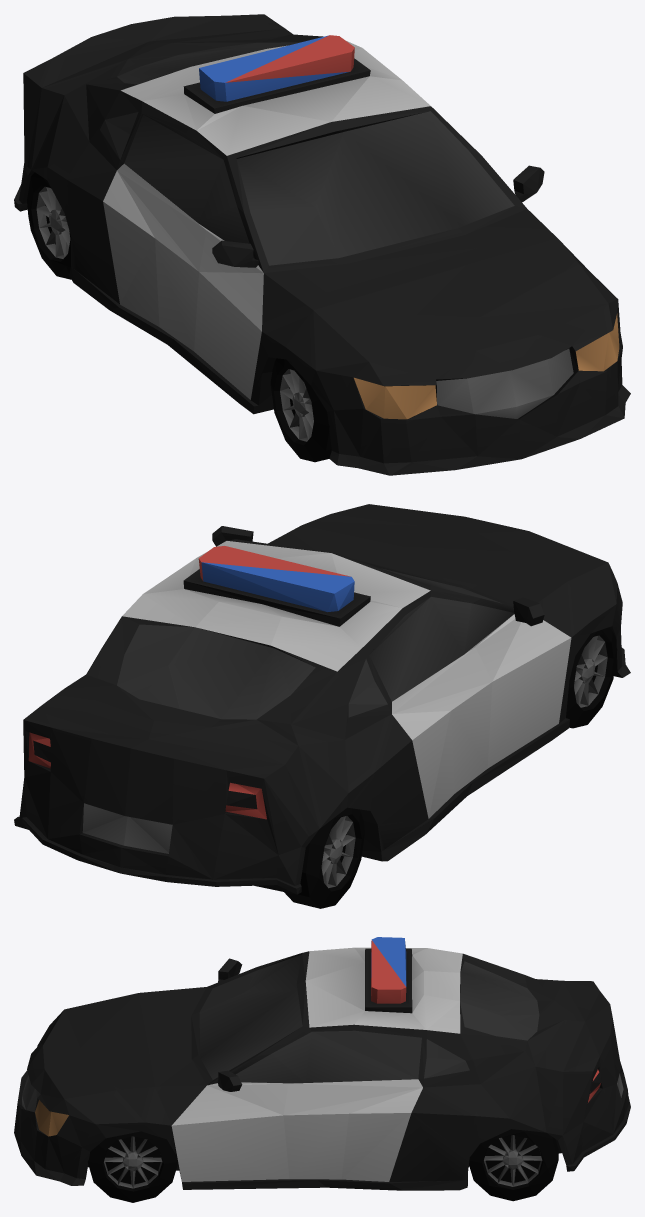
File: car-police.glb
3 renders of one model, top to bottom at view 1: azimuth 30°, elevation 25°; view 2: azimuth 150°, elevation 25°; view 3: azimuth 270°, elevation 25°, orthographic. The views are drawn at different scales.
Visible parts, largest first — view 1: car-police; view 2: car-police; view 3: car-police.
Boxes of the visible parts, x1,y1,x2,y2 form: car-police: (14,14,630,475); car-police: (14,504,630,908); car-police: (14,937,630,1202).
Size of the model in its own units: 2.3 by 1.6 by 4.81.
